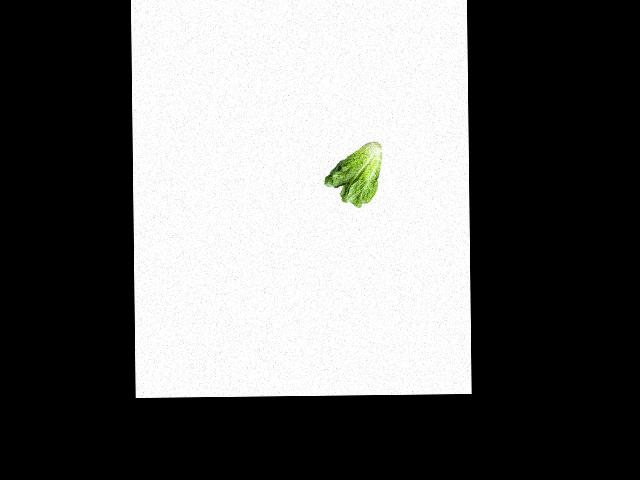lettuce: (321, 137, 388, 207)
